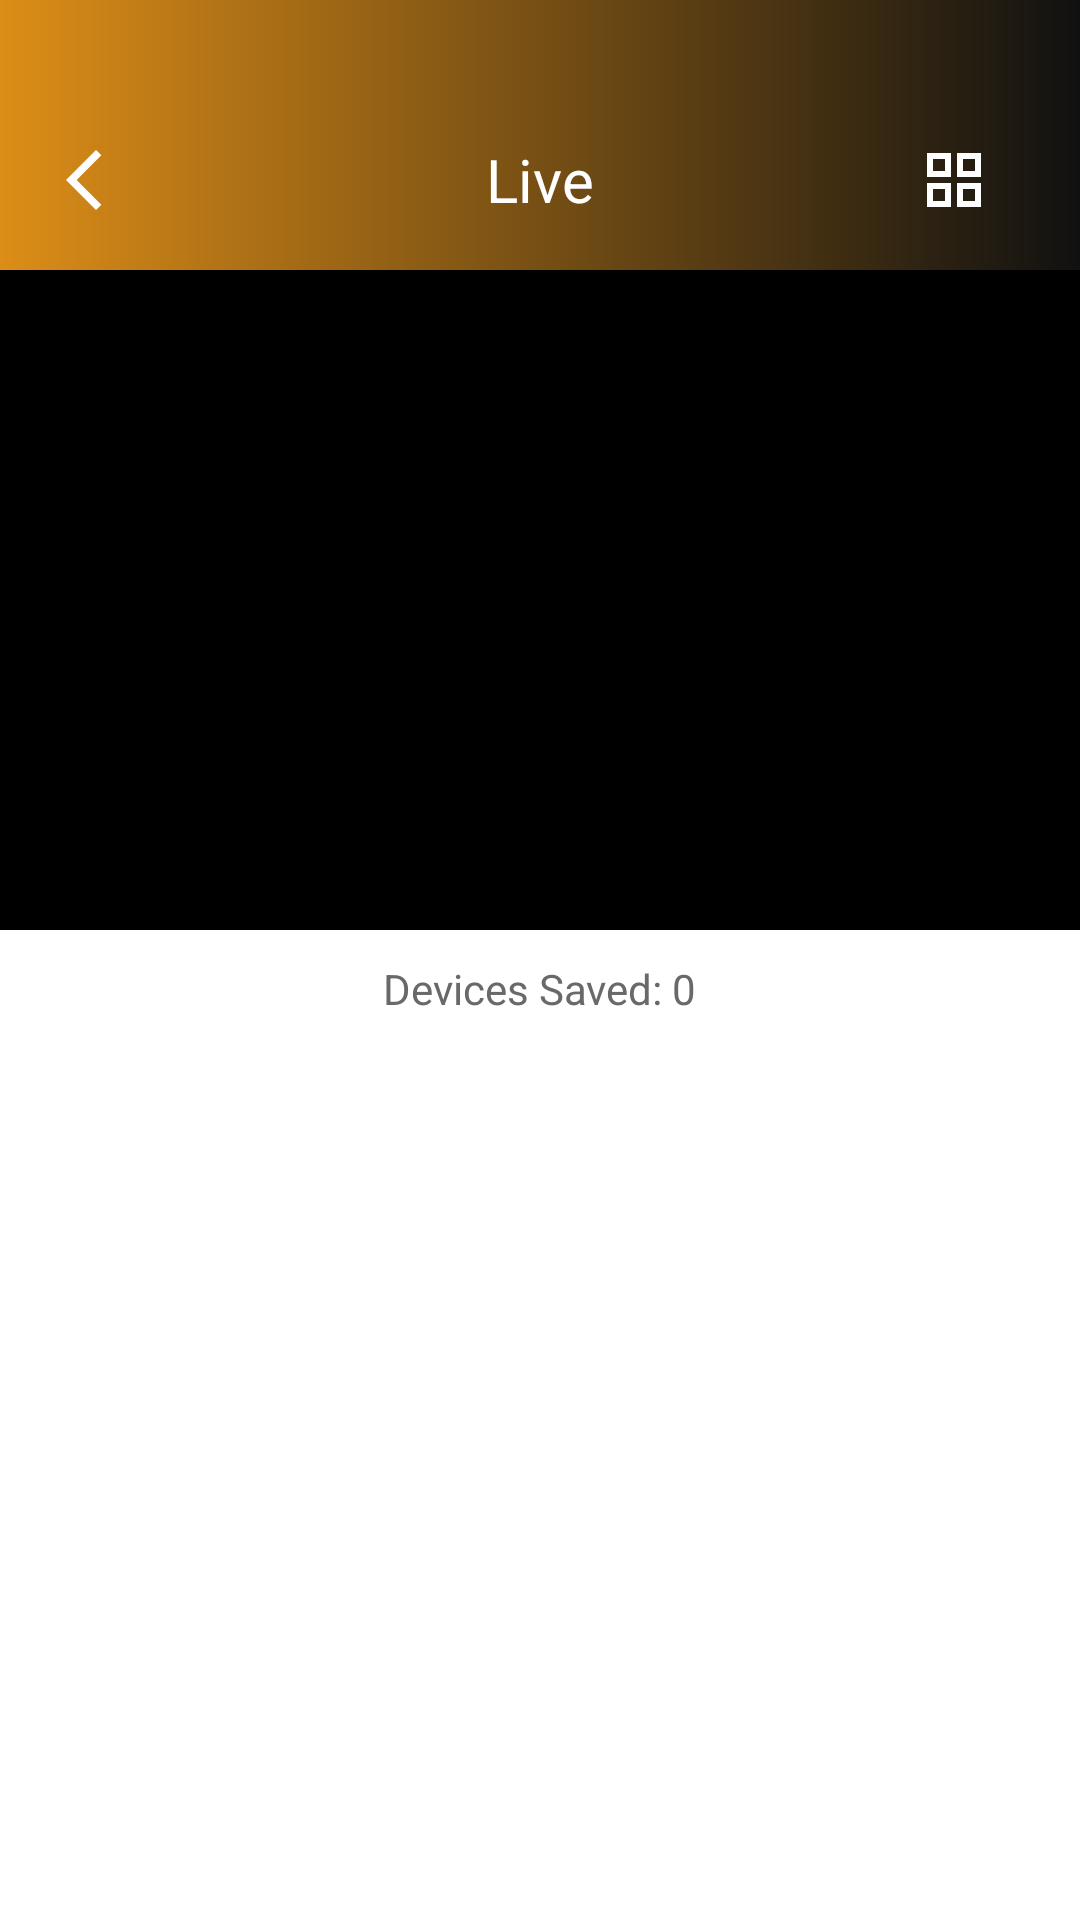

Where icons sit on this 1080x1920 app screen, as box(x1, y1, x2, y2):
back: box(66, 150, 101, 210)
grid: box(927, 153, 981, 207)
